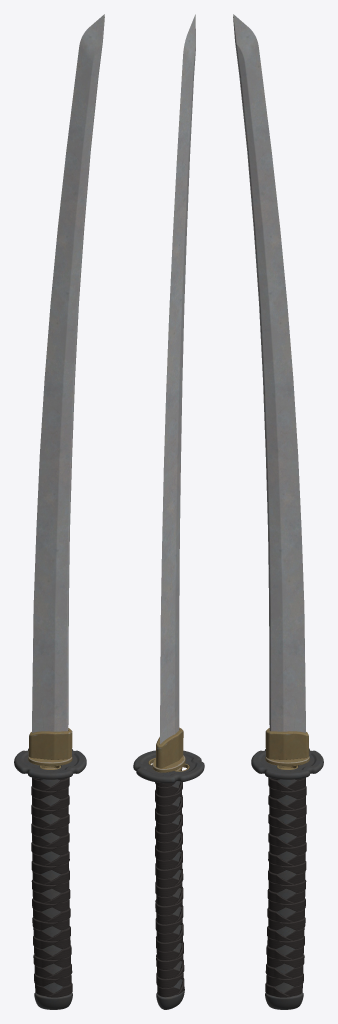
The model's file is katana.glb.
3 renders of one model, left to right at view 1: azimuth 90°, elevation 25°; view 2: azimuth 150°, elevation 25°; view 3: azimuth 270°, elevation 25°, orthographic. The views are drawn at different scales.
Visible parts, largest first — view 1: submesh_00_LOD_1.001; view 2: submesh_00_LOD_1.001; view 3: submesh_00_LOD_1.001.
Part boxes in pixels (x1=…): submesh_00_LOD_1.001: x1=14, y1=14, x2=104, y2=1009; submesh_00_LOD_1.001: x1=133, y1=14, x2=204, y2=1009; submesh_00_LOD_1.001: x1=233, y1=14, x2=323, y2=1009.
Bounding box in the file's own units: 0.0762 × 1.15 × 0.0952.
1 material, 1 textured.
